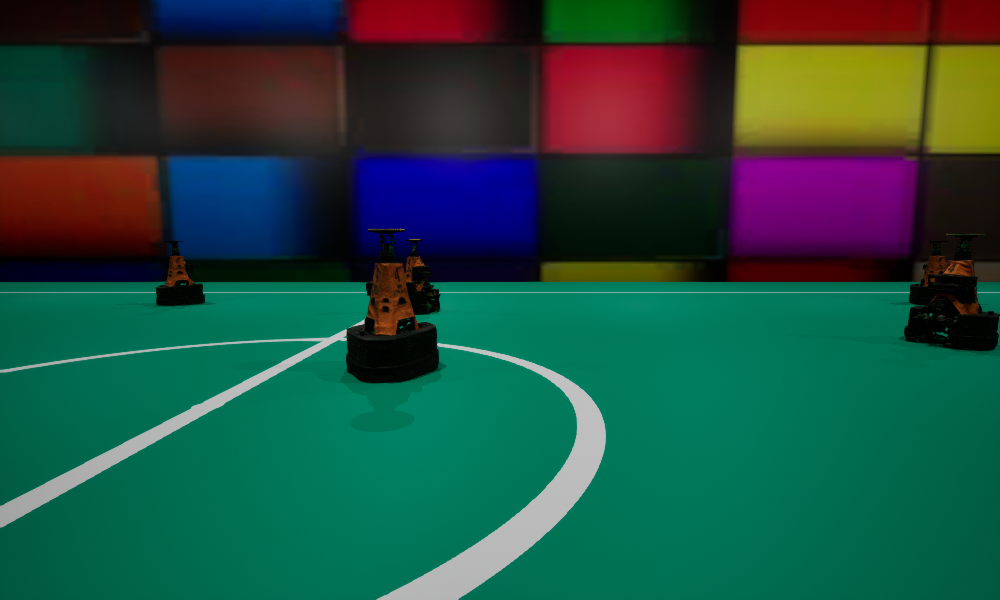0 orange robot TechUnited: (346, 229, 438, 382), (904, 233, 999, 349), (156, 241, 204, 305), (405, 239, 440, 314), (909, 241, 947, 305)
